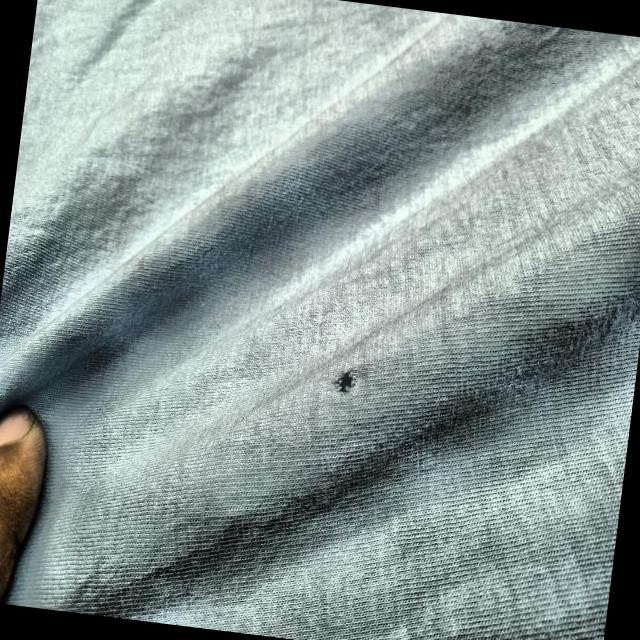cut: (324, 360, 364, 410)
